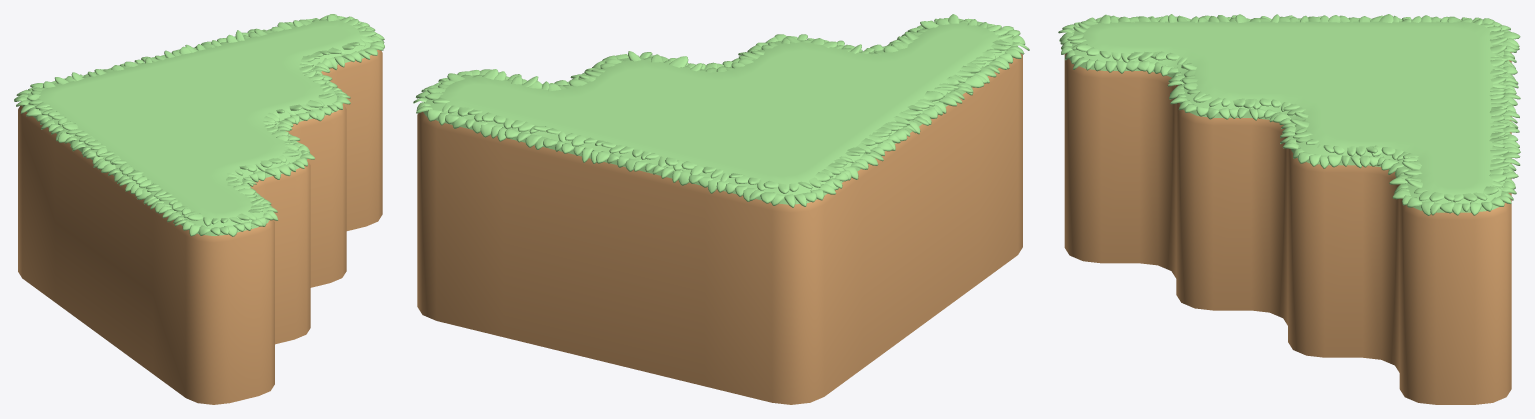
File: Cliffs_4x4_S.fbx
The picture shows the model from 3 angles, left to right: view 1: azimuth 30°, elevation 25°; view 2: azimuth 150°, elevation 25°; view 3: azimuth 270°, elevation 25°; orthographic projection. The views are drawn at different scales.
Parts seen in each view (by area): view 1: 4x4_S_Clif, 4x4_S_Blades; view 2: 4x4_S_Clif, 4x4_S_Blades; view 3: 4x4_S_Clif, 4x4_S_Blades.
Part boxes in pixels (left/top/right/bottom): 4x4_S_Clif: left=18, top=19, right=382, bottom=404; 4x4_S_Blades: left=14, top=14, right=384, bottom=236; 4x4_S_Clif: left=417, top=23, right=1022, bottom=404; 4x4_S_Blades: left=413, top=14, right=1029, bottom=207; 4x4_S_Clif: left=1064, top=21, right=1511, bottom=404; 4x4_S_Blades: left=1058, top=14, right=1520, bottom=215.
Bounding box in the file's own units: 416 × 205 × 414.
